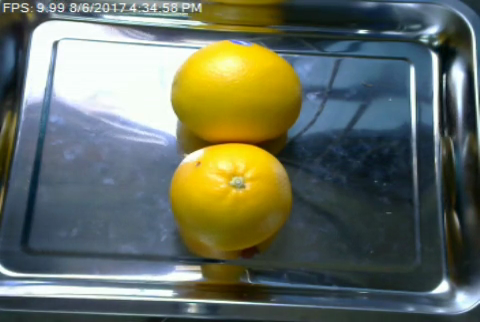Orange: (171, 39, 303, 142), (168, 142, 291, 249)
